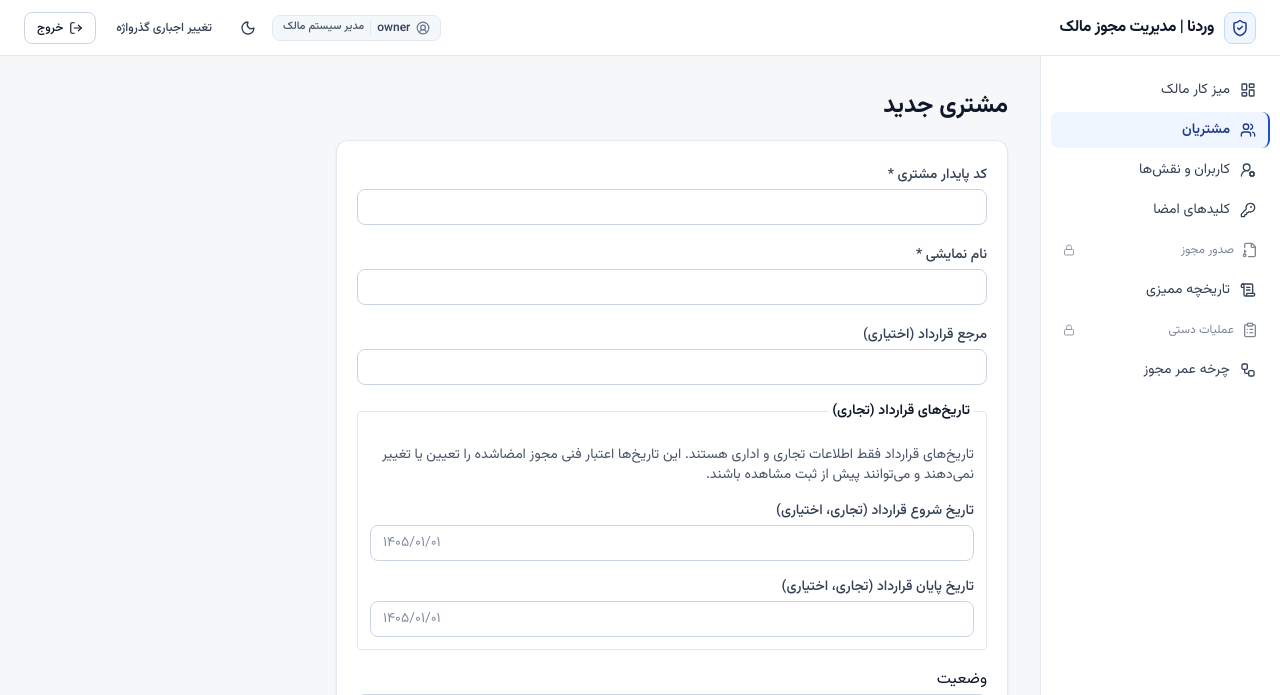
Test case: Owner browser vertical slice (mocked API boundary, CI) › creates a persisted customer and navigates to its detail with success feedback
In the field labelled "کد پایدار مشتری *": x=672, y=207 x1=357 y1=189 x2=987 y2=225, type "Acme.01"
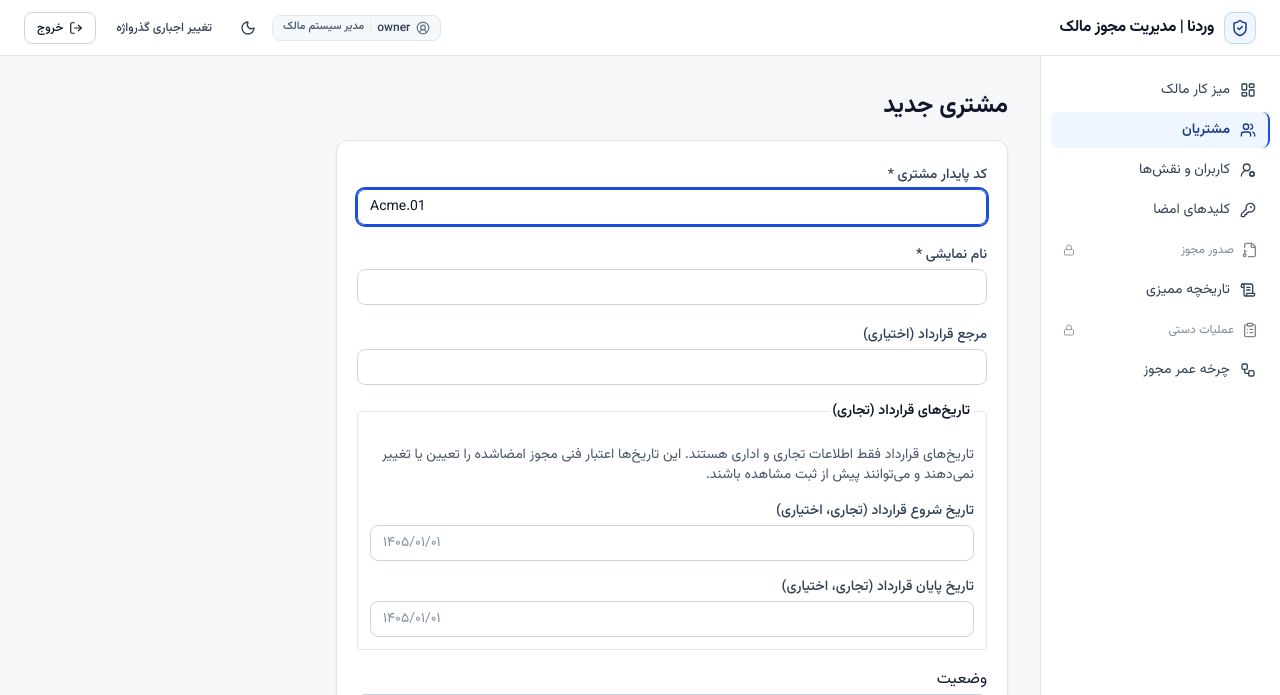
In the field labelled "نام نمایشی *": x=672, y=287 x1=357 y1=269 x2=987 y2=305, type "مشتری"
(page scrolled)
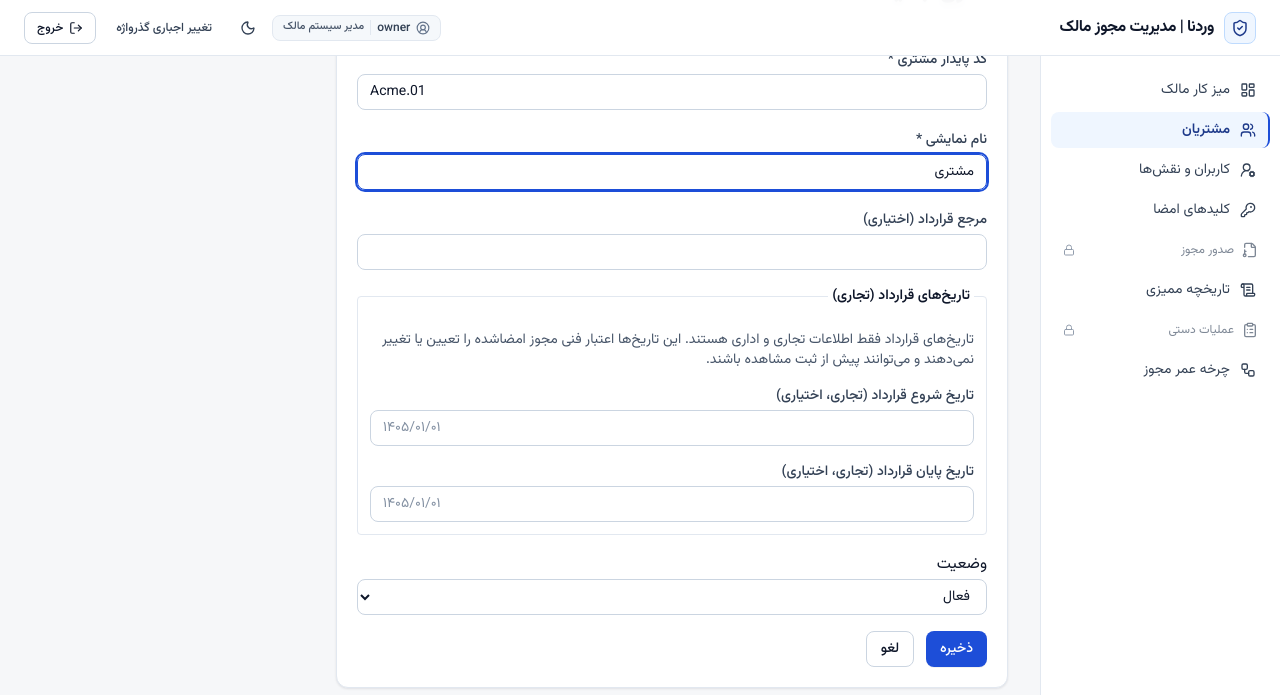
Click the button "ذخیره": x=957, y=649 x1=926 y1=631 x2=987 y2=667
(page scrolled)
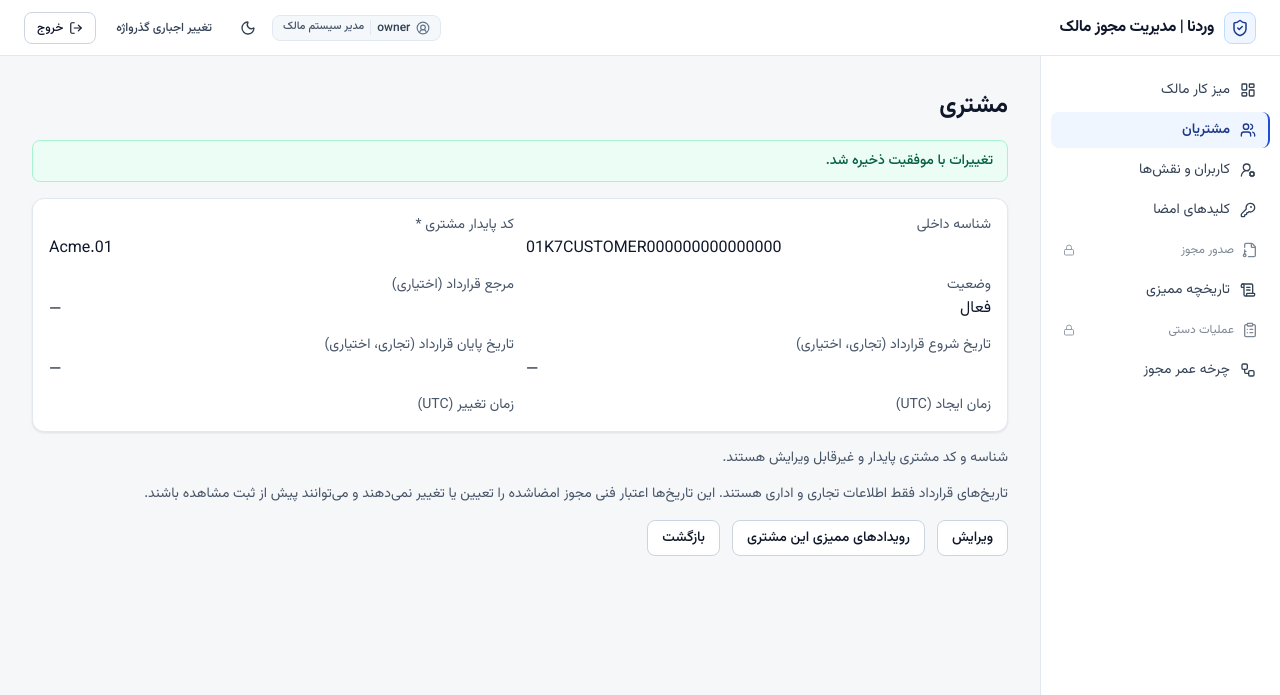
Now the text "تغییرات با موفقیت ذخیره شد." is shown, box x1=32 y1=140 x2=1008 y2=182
Now the text "شناسه و کد مشتری پایدار و غیرقابل ویرایش هستند." is shown, box x1=722 y1=447 x2=1008 y2=469
